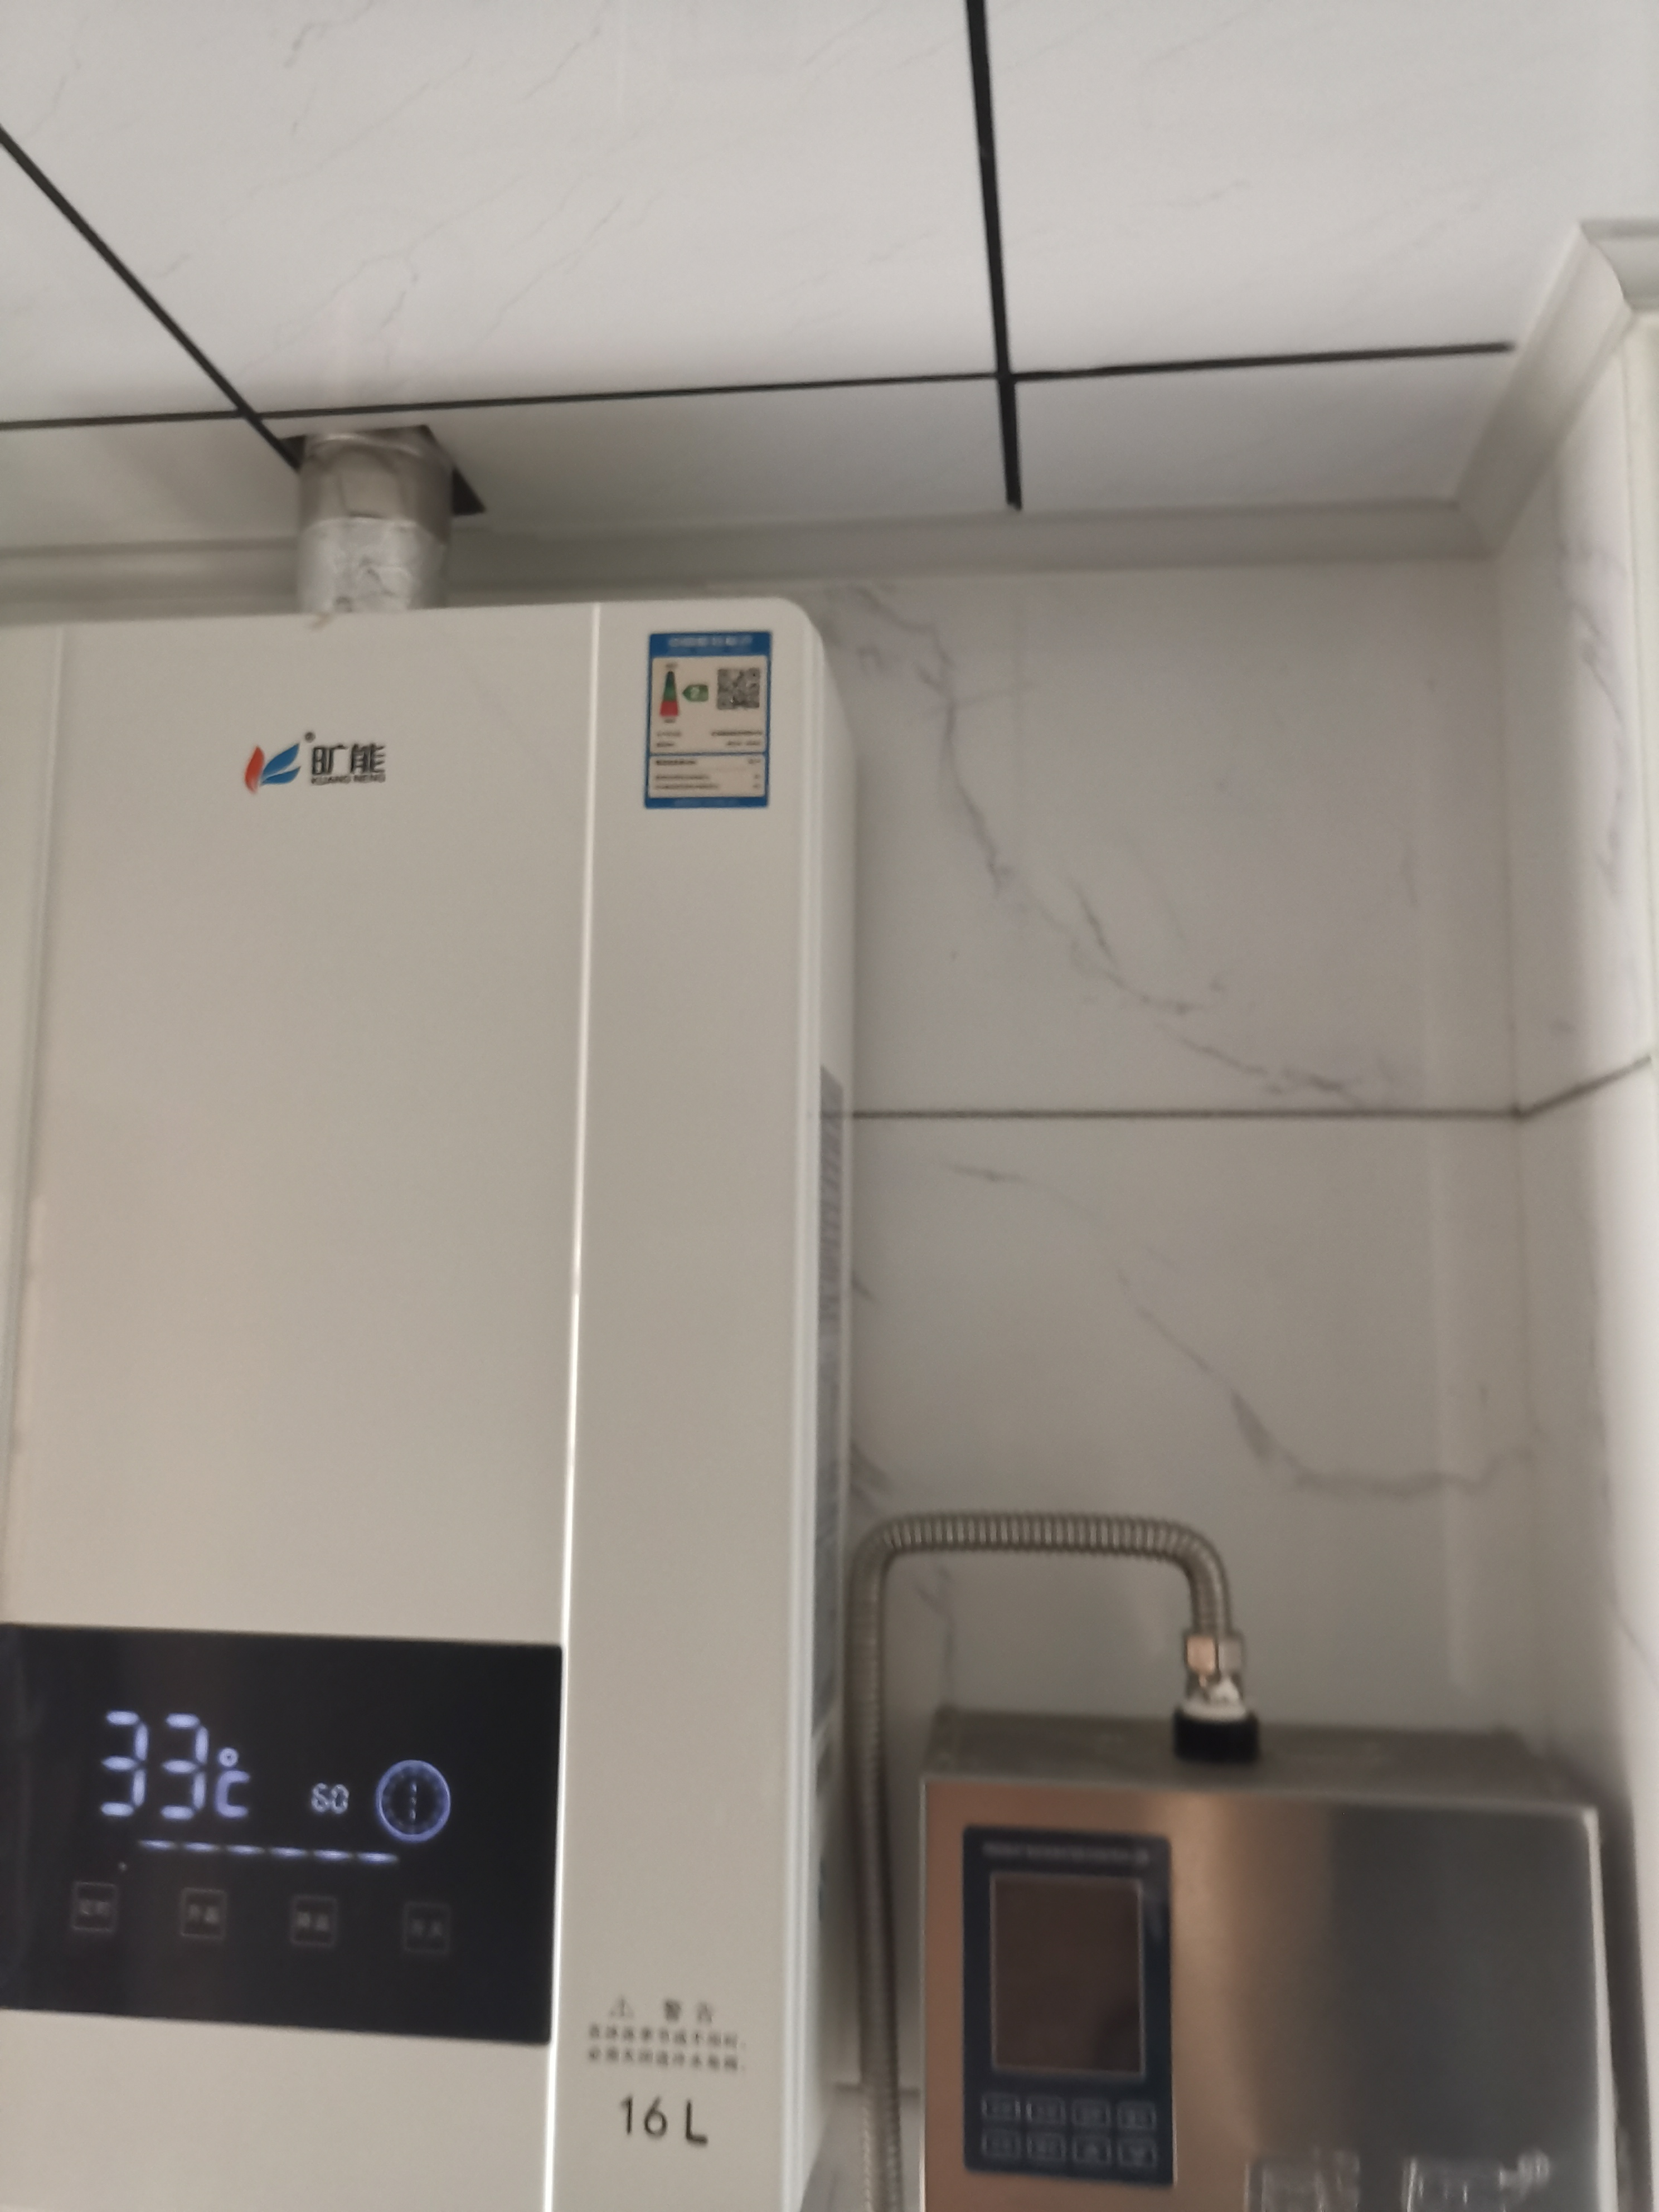loudou: (227, 718, 422, 801)
